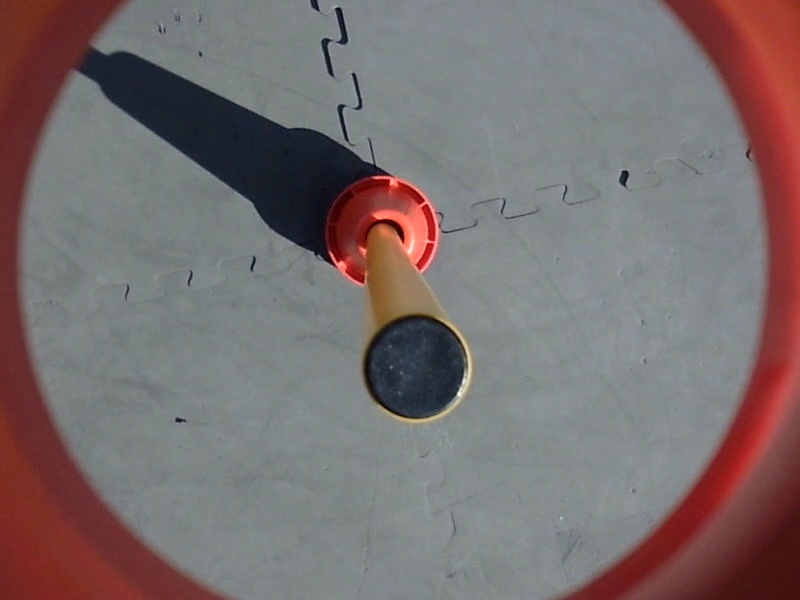tip: (359, 307, 479, 425)
